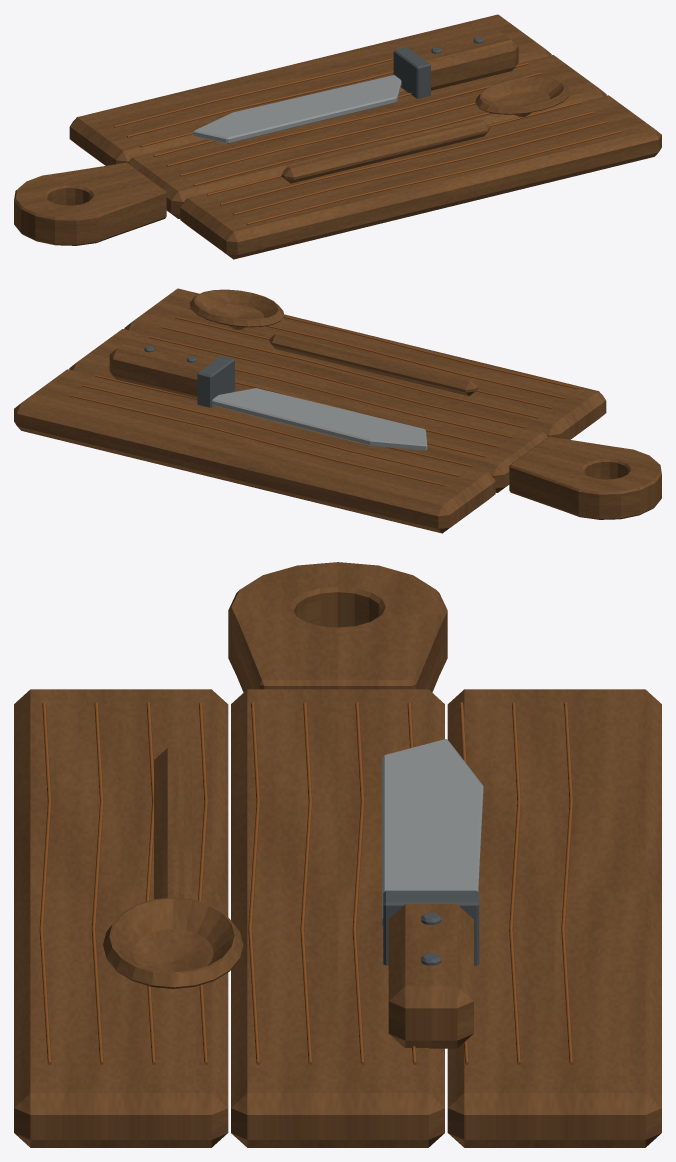
The model's file is chopping-tools-set.glb.
3 views of the same model, one above another, from view 1: azimuth 30°, elevation 25°; view 2: azimuth 150°, elevation 25°; view 3: azimuth 270°, elevation 25° (orthographic). The views are drawn at different scales.
Parts seen in each view (by area): view 1: Joined oak board plank 1, Joined oak board plank 2, Joined oak board plank 3, Board hanging grip, Kitchen knife forged blade, Knife oak handle, Spoon tapered rounded handle, Wooden stirring spoon scoop, Knife iron bolster, Oak grain accent, Oak grain accent.001, Oak grain accent.002 (+6 smaller); view 2: Joined oak board plank 3, Joined oak board plank 1, Joined oak board plank 2, Board hanging grip, Kitchen knife forged blade, Knife oak handle, Spoon tapered rounded handle, Wooden stirring spoon scoop, Knife iron bolster, Oak grain accent.010, Oak grain accent.003, Oak grain accent.004 (+7 smaller); view 3: Joined oak board plank 3, Joined oak board plank 1, Joined oak board plank 2, Board hanging grip, Kitchen knife forged blade, Knife oak handle, Wooden stirring spoon scoop, Spoon tapered rounded handle, Knife iron bolster, Oak grain accent.001, Oak grain accent.006, Oak grain accent (+6 smaller).
Part boxes in pixels (box(x1,y1,x2,y2)): Joined oak board plank 1: box(180, 95, 661, 259); Joined oak board plank 2: box(127, 55, 606, 218); Joined oak board plank 3: box(69, 14, 551, 165); Board hanging grip: box(14, 162, 166, 245); Kitchen knife forged blade: box(193, 75, 401, 143); Knife oak handle: box(413, 30, 518, 90); Spoon tapered rounded handle: box(281, 119, 490, 183); Wooden stirring spoon scoop: box(475, 77, 569, 117); Knife iron bolster: box(393, 47, 430, 98); Oak grain accent: box(246, 130, 621, 224); Oak grain accent.001: box(233, 121, 607, 215); Oak grain accent.002: box(220, 111, 594, 205); Joined oak board plank 3: box(14, 369, 495, 533); Joined oak board plank 1: box(124, 288, 606, 439); Joined oak board plank 2: box(69, 329, 548, 492); Board hanging grip: box(509, 436, 661, 519); Kitchen knife forged blade: box(212, 388, 427, 450); Knife oak handle: box(109, 339, 215, 398); Spoon tapered rounded handle: box(269, 332, 477, 396); Wooden stirring spoon scoop: box(189, 289, 284, 329); Knife iron bolster: box(197, 356, 234, 407); Oak grain accent.010: box(68, 394, 445, 486); Oak grain accent.003: box(161, 326, 538, 418); Oak grain accent.004: box(148, 336, 525, 428); Joined oak board plank 3: box(447, 689, 661, 1147); Joined oak board plank 1: box(14, 689, 228, 1147); Joined oak board plank 2: box(231, 689, 444, 1147); Board hanging grip: box(228, 562, 447, 692); Kitchen knife forged blade: box(382, 739, 483, 926); Knife oak handle: box(388, 904, 473, 1048); Wooden stirring spoon scoop: box(103, 897, 243, 988); Spoon tapered rounded handle: box(154, 747, 192, 899); Knife iron bolster: box(383, 890, 479, 965); Oak grain accent.001: box(91, 702, 103, 1064); Oak grain accent.006: box(352, 702, 364, 1064); Oak grain accent: box(39, 702, 51, 1064).
Size of the model in its own units: 0.465 by 0.0485 by 0.236.
7 materials, 4 textured.
